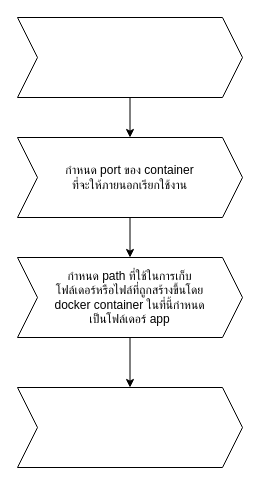
Image size: 260x485. Some labels were removed from this diagram. Here are the shapes that lost their labels. From the top down, the centre of each, then its label:
At pixel 129 57: "โหลด python3.7-slim".
At pixel 129 427: "ทำการคัดลอกโฟล์เดอร์และไฟล์ ที่ถูกสร้างขึ้นจากเครื่องไปไว้ใน ขั้นตอนก่อนหน้า".
